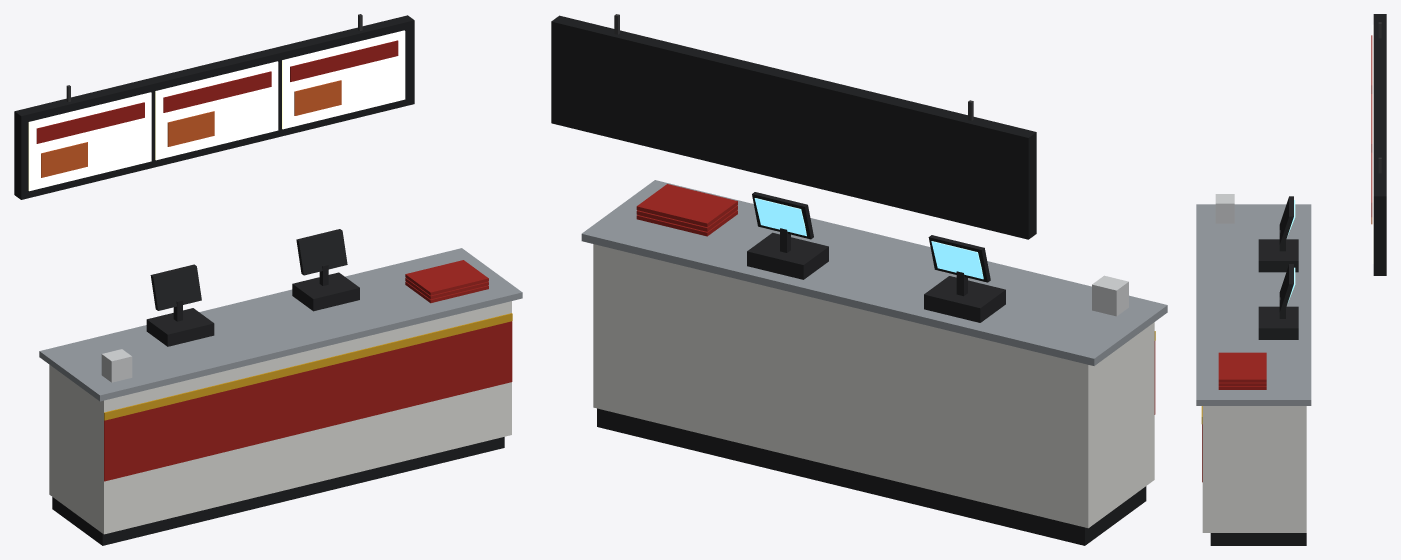
File: fastfood_counter.glb
3 renders of one model, left to right at view 1: azimuth 30°, elevation 25°; view 2: azimuth 150°, elevation 25°; view 3: azimuth 270°, elevation 25°, orthographic. The views are drawn at different scales.
Parts seen in each view (by area): view 1: fastfood_counter; view 2: fastfood_counter; view 3: fastfood_counter.
Part boxes in pixels (x1,y1,x2,y2): fastfood_counter: (14,14,522,545); fastfood_counter: (551,14,1167,545); fastfood_counter: (1196,14,1386,545).
Size of the model in its own units: 2.9 by 2.5 by 1.19.
1 material, 1 textured.
